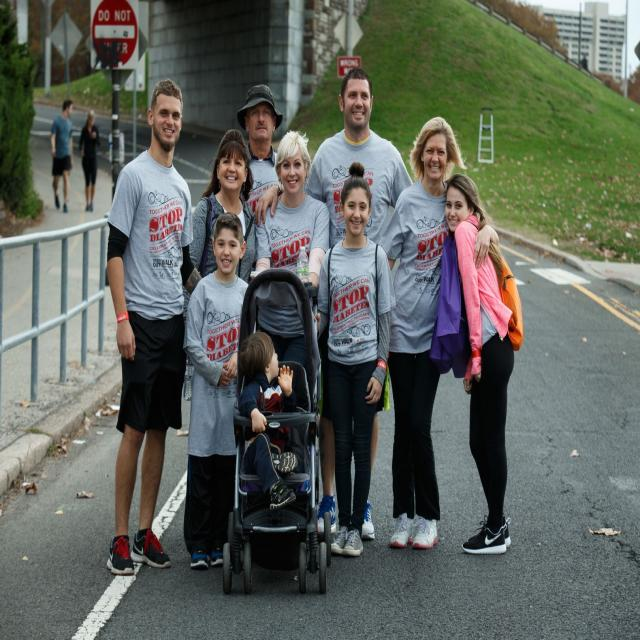body: (253, 66, 417, 546), (100, 77, 212, 582), (377, 115, 501, 550), (306, 158, 396, 566), (441, 170, 525, 560), (180, 208, 260, 574), (251, 126, 332, 366), (180, 128, 258, 328), (236, 329, 300, 513), (236, 82, 284, 224), (50, 98, 74, 214), (78, 108, 100, 213), (576, 49, 589, 78)
